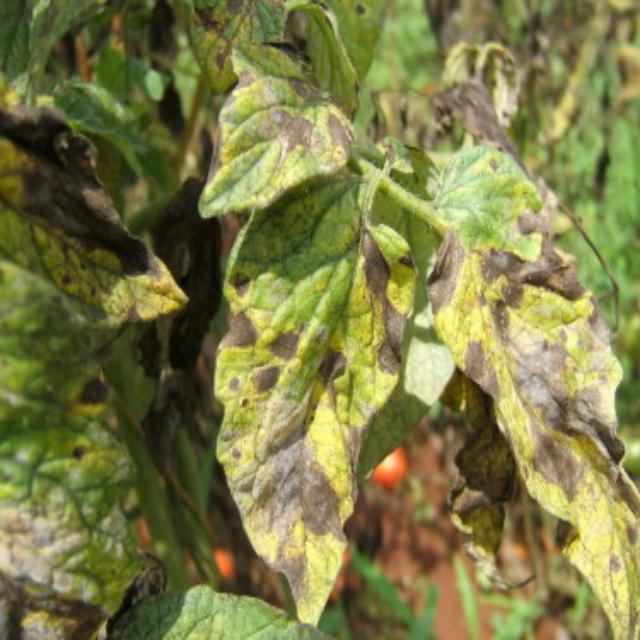Early_blight: (475, 205, 640, 640), (1, 100, 191, 329), (221, 393, 376, 623), (1, 491, 139, 640), (453, 421, 537, 591), (430, 75, 531, 175), (352, 227, 416, 379), (260, 105, 324, 175), (425, 220, 466, 328), (454, 330, 503, 409), (62, 369, 115, 415), (282, 67, 341, 106), (315, 342, 348, 407), (219, 309, 259, 357), (324, 106, 355, 164), (219, 66, 256, 112), (203, 119, 226, 192), (269, 320, 307, 364), (60, 436, 95, 480), (194, 1, 224, 36), (250, 362, 281, 394), (229, 264, 253, 304)
